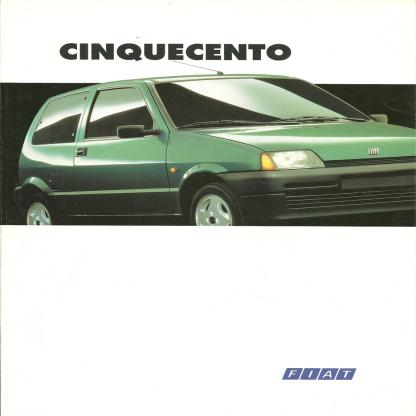Car: (15, 61, 416, 227)
